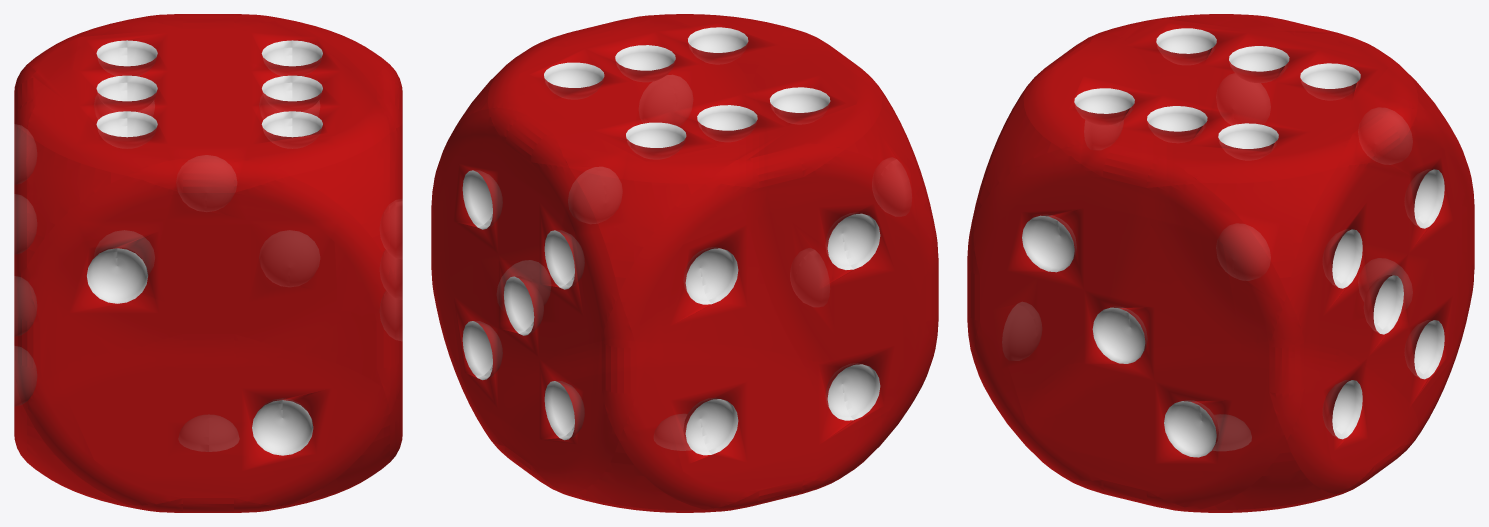
File: d6_pipped_rounded.fbx
3 renders of one model, left to right at view 1: azimuth 30°, elevation 25°; view 2: azimuth 150°, elevation 25°; view 3: azimuth 270°, elevation 25°, orthographic.
Visible parts, largest first — view 1: 6_Sided_Ro; view 2: 6_Sided_Ro; view 3: 6_Sided_Ro.
Part boxes in pixels (x1=…): 6_Sided_Ro: x1=14, y1=14, x2=402, y2=512; 6_Sided_Ro: x1=431, y1=14, x2=938, y2=512; 6_Sided_Ro: x1=967, y1=14, x2=1474, y2=512.
Bounding box in the file's own units: 10.98 × 8.34 × 10.98.
